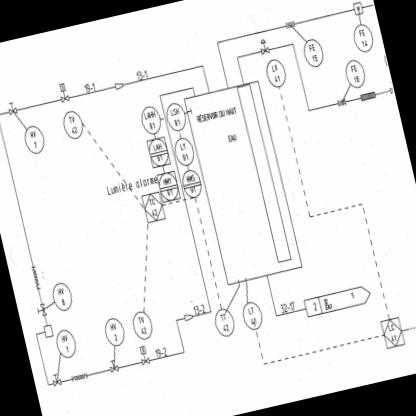LMI: (262, 55, 294, 90), (136, 102, 163, 138), (49, 276, 76, 312), (101, 312, 128, 348), (53, 326, 80, 360), (60, 107, 86, 142), (240, 300, 266, 334), (342, 57, 368, 90), (350, 22, 376, 54), (130, 310, 156, 342), (212, 306, 238, 338), (22, 124, 48, 155), (302, 37, 326, 69), (173, 136, 197, 168), (165, 102, 189, 132)
